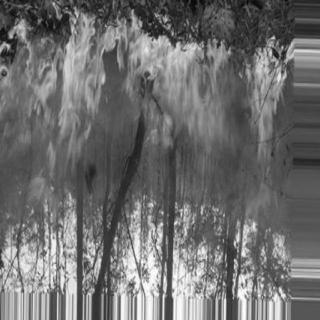Fire: (3, 18, 291, 216)
